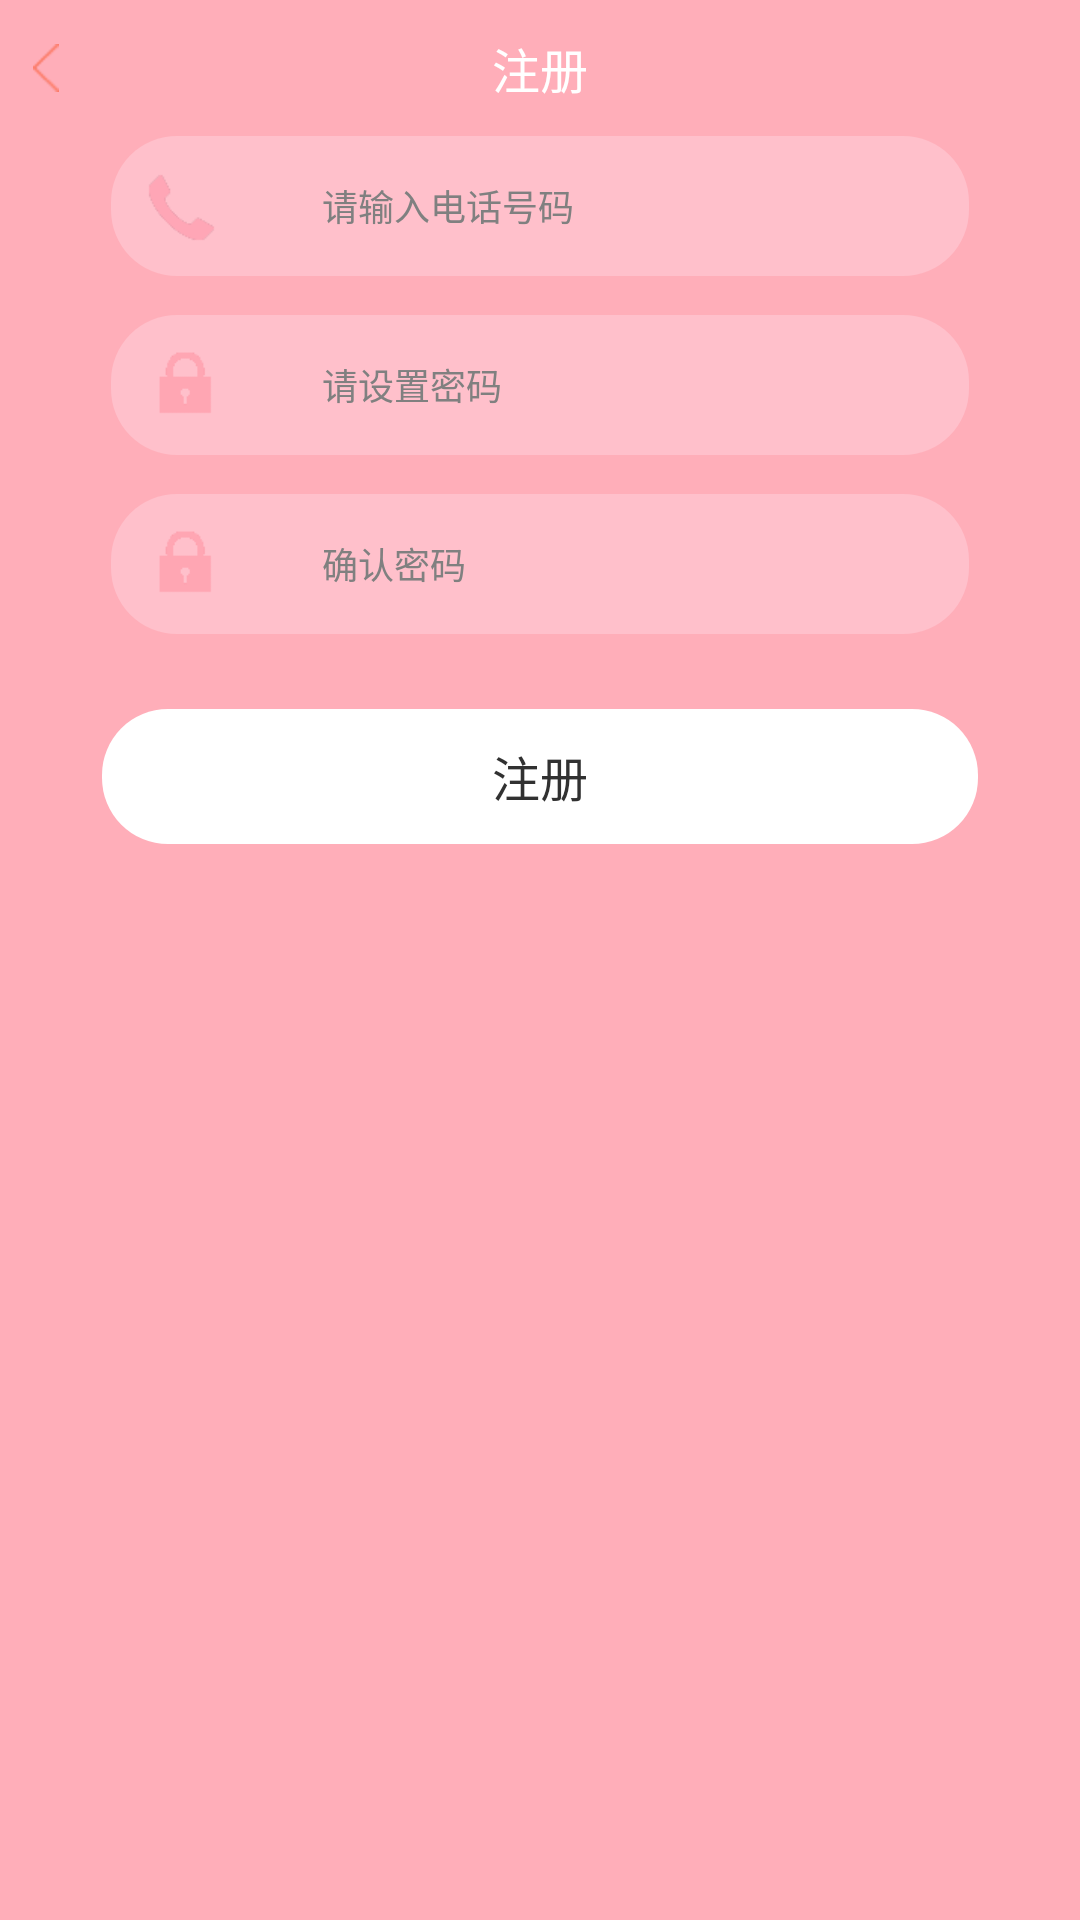

Screen size 1080 x 1920. Icon name, then its center in pixels as point (x, y):
back before: point (46, 68)
